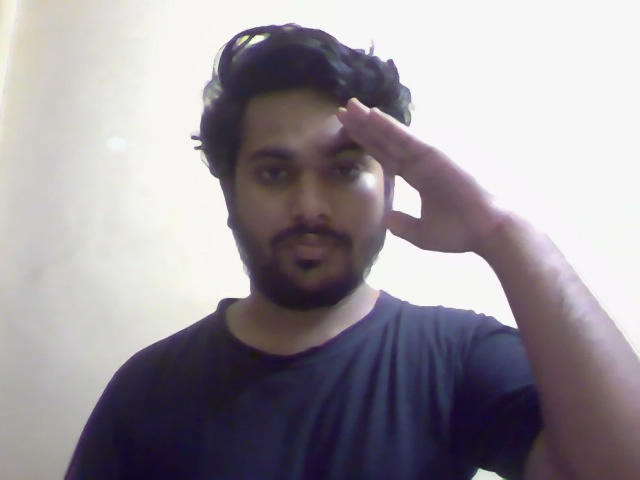hello: (187, 13, 505, 316)
